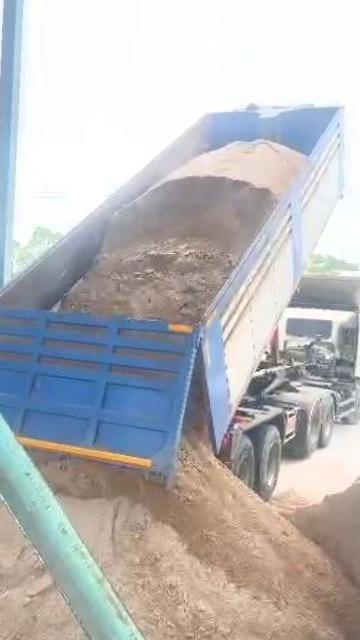sand: (44, 439, 360, 640), (63, 140, 304, 322), (0, 467, 125, 640), (276, 467, 360, 594)
